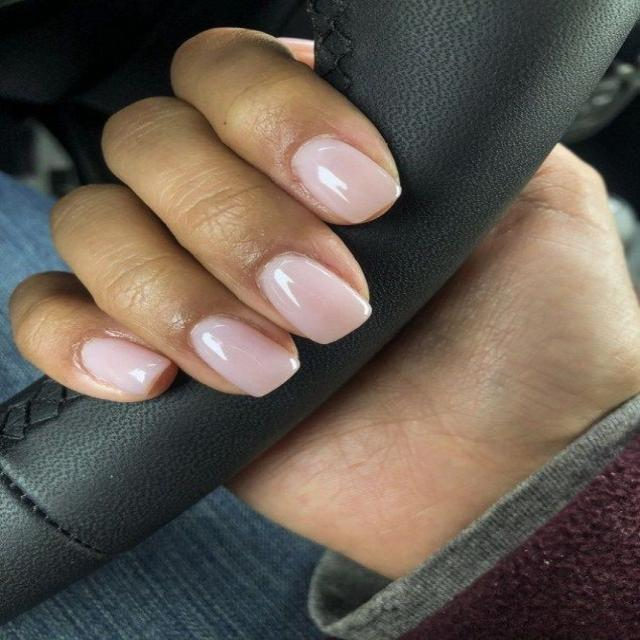Fingernail: (257, 252, 373, 345), (189, 315, 300, 398), (291, 139, 402, 222), (81, 337, 170, 398)
